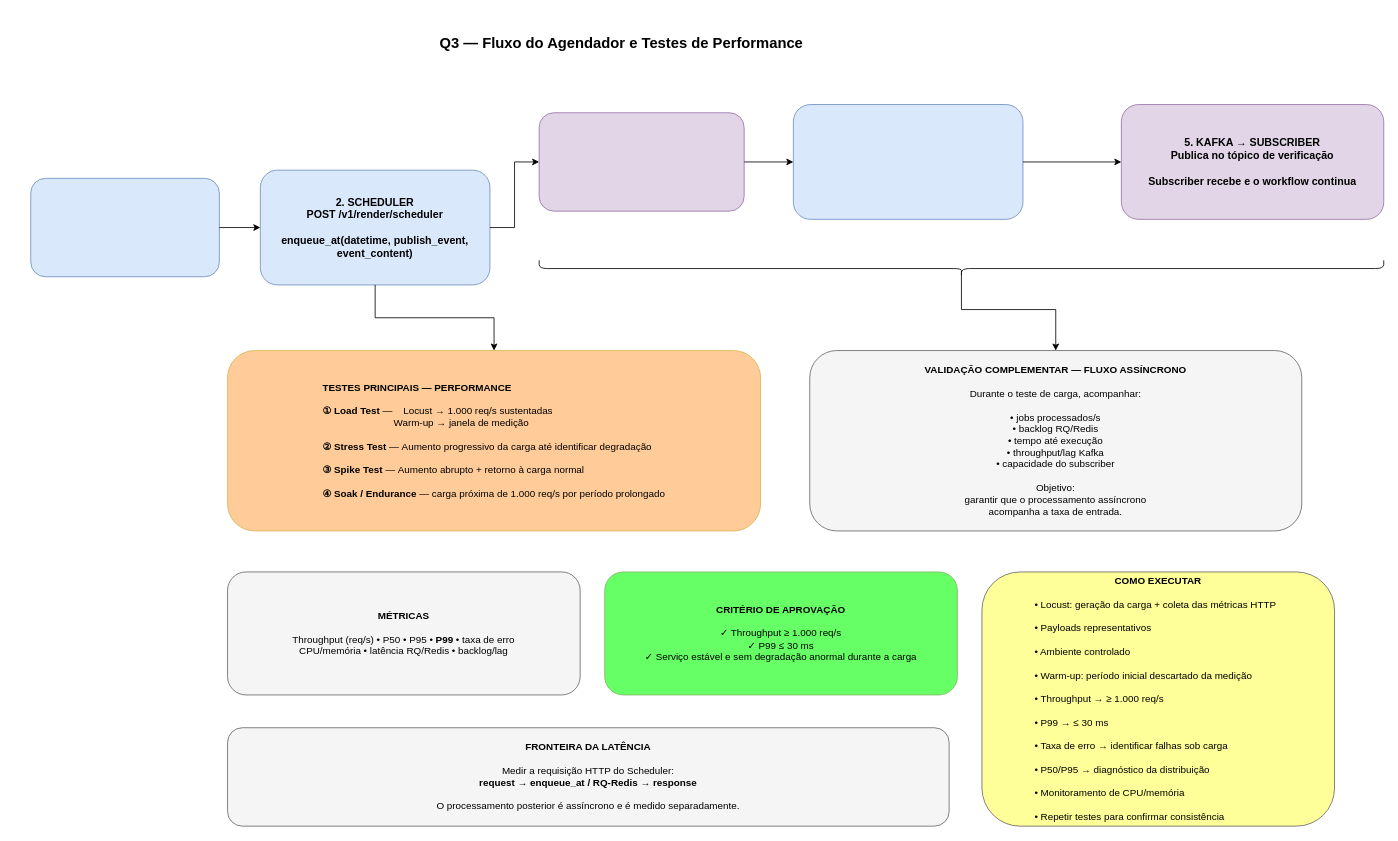
Image size: 1398x841. Some labels were removed from this diagram. Each missing label, with the centre of its shape:
"1. WORKFLOW Passos antes do agendamento Envia o POST ao Scheduler" belongs at (124,227).
"3. RQ / REDIS RQ Queue + Redis Job fica agendado até o horário" belongs at (641,161).
"4. RQ WORKER Executa o job quando o horário chega → publish_event(event_content)" belongs at (908,161).
"Fluxo Assíncrono" belongs at (961,268).
